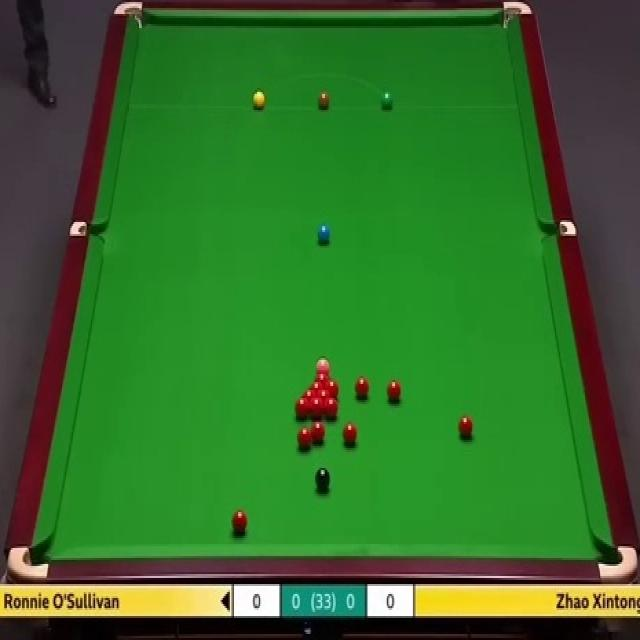pocket: (6, 543, 50, 580), (598, 543, 636, 582), (500, 0, 536, 31), (111, 2, 142, 30), (69, 218, 109, 238), (539, 218, 580, 237)
